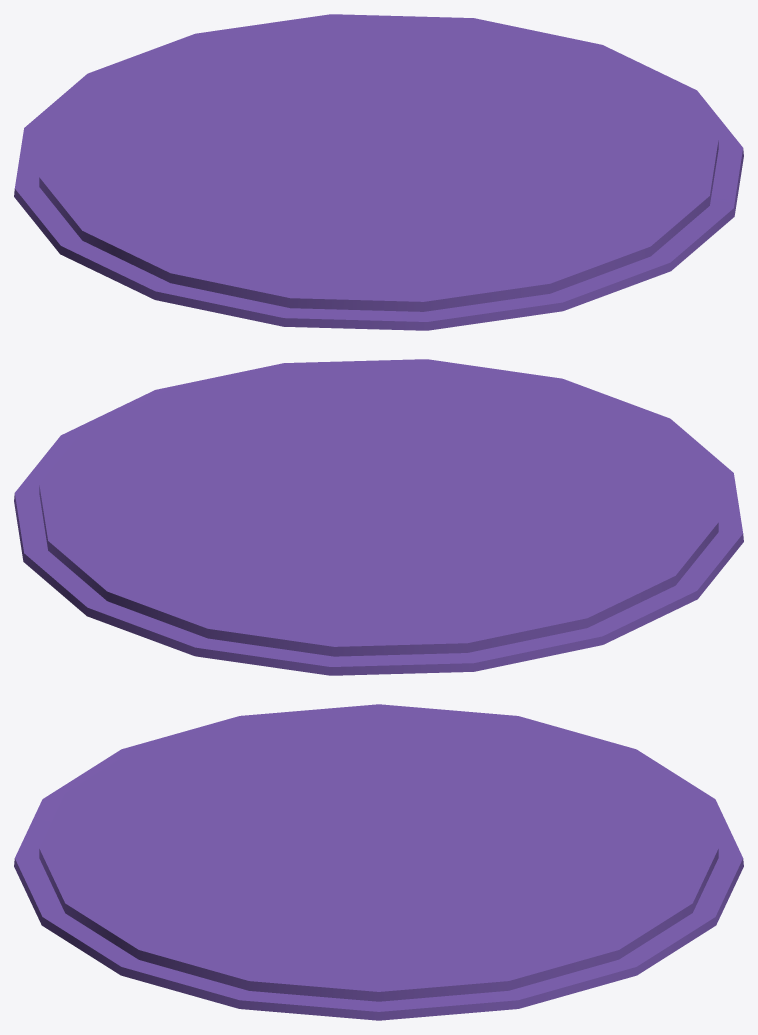
The model's file is Tower_Base_Base_Art.fbx.
The picture shows the model from 3 angles, top to bottom: view 1: azimuth 30°, elevation 25°; view 2: azimuth 150°, elevation 25°; view 3: azimuth 270°, elevation 25°; orthographic projection.
Parts seen in each view (by area): view 1: Tower_Base_Base_Art; view 2: Tower_Base_Base_Art; view 3: Tower_Base_Base_Art.
Boxes of the visible parts, left/top/right/bottom form: Tower_Base_Base_Art: left=14, top=14, right=743, bottom=330; Tower_Base_Base_Art: left=14, top=359, right=743, bottom=675; Tower_Base_Base_Art: left=14, top=704, right=743, bottom=1020.
Bounding box in the file's own units: 1525 × 41.55 × 1525.
